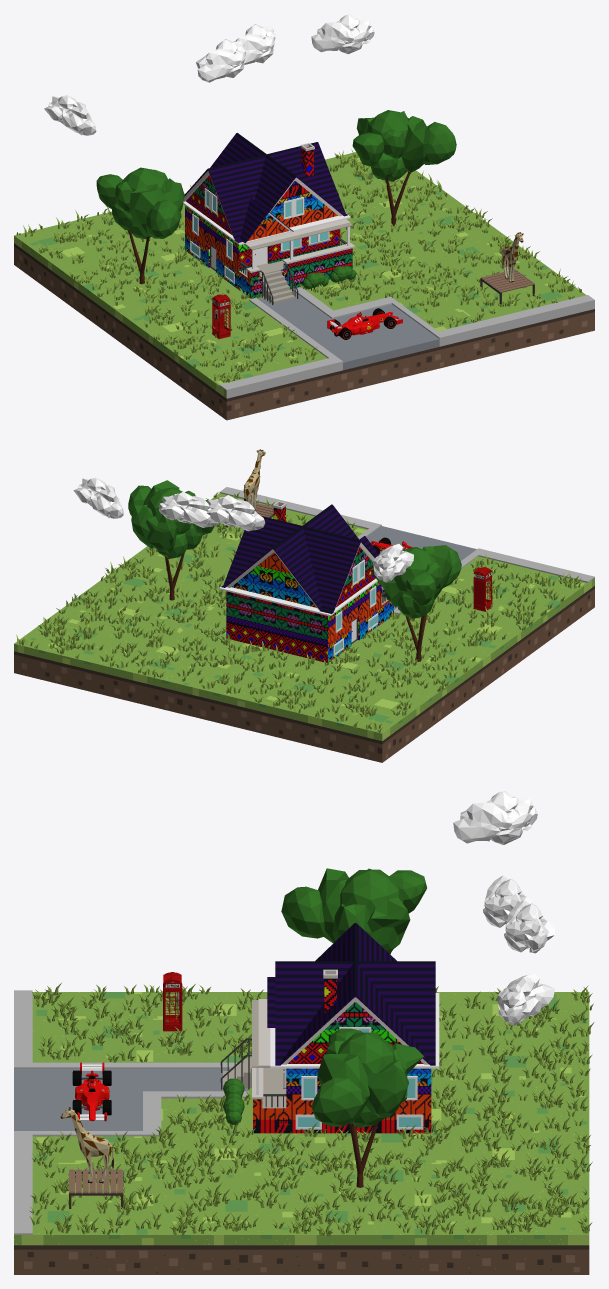
3 renders of one model, top to bottom at view 1: azimuth 30°, elevation 25°; view 2: azimuth 150°, elevation 25°; view 3: azimuth 270°, elevation 25°, orthographic. The views are drawn at different scales.
Parts seen in each view (by area): view 1: Cube.006, Cube.966, Circle.012_Grass_0.192, Cube.007, tree, tree.001, VEHICLES_FORMULA_1, Cube.009, OBJRANDOM_PHONEBOOTH, ANIMAL_JIRAFA; view 2: Cube.006, Cube.966, Circle.012_Grass_0.192, Cube.007, tree.001, tree, OBJRANDOM_PHONEBOOTH, ANIMAL_JIRAFA; view 3: Cube.006, Circle.012_Grass_0.192, Cube.966, tree, Cube.007, tree.001, VEHICLES_FORMULA_1, Cube.009, ANIMAL_JIRAFA, OBJRANDOM_PHONEBOOTH.
Part boxes in pixels (x1,y1,x2,y2): Cube.006: [14, 152, 594, 420]; Cube.966: [183, 133, 355, 304]; Circle.012_Grass_0.192: [16, 149, 581, 382]; Cube.007: [44, 14, 374, 135]; tree: [352, 110, 456, 226]; tree.001: [96, 167, 184, 284]; VEHICLES_FORMULA_1: [327, 308, 402, 339]; Cube.009: [480, 269, 534, 303]; OBJRANDOM_PHONEBOOTH: [212, 294, 230, 338]; ANIMAL_JIRAFA: [501, 232, 523, 282]; Cube.006: [14, 487, 594, 762]; Cube.966: [219, 501, 393, 662]; Circle.012_Grass_0.192: [16, 492, 581, 732]; Cube.007: [73, 477, 413, 582]; tree.001: [370, 545, 461, 661]; tree: [128, 480, 214, 600]; OBJRANDOM_PHONEBOOTH: [473, 567, 492, 611]; ANIMAL_JIRAFA: [243, 449, 265, 509]; Cube.006: [14, 990, 589, 1274]; Circle.012_Grass_0.192: [29, 983, 594, 1236]; Cube.966: [220, 923, 439, 1133]; tree: [311, 1028, 423, 1187]; Cube.007: [453, 791, 554, 1025]; tree.001: [281, 868, 426, 954]; VEHICLES_FORMULA_1: [72, 1062, 111, 1121]; Cube.009: [69, 1169, 123, 1208]; ANIMAL_JIRAFA: [60, 1107, 113, 1183]; OBJRANDOM_PHONEBOOTH: [163, 972, 182, 1031].
Size of the model in its own units: 4071 by 2277 by 4040.
Materials: 49 (7 with a texture image).
